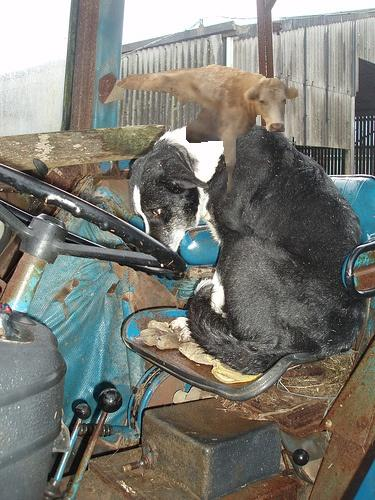tampered: (116, 65, 298, 198)
